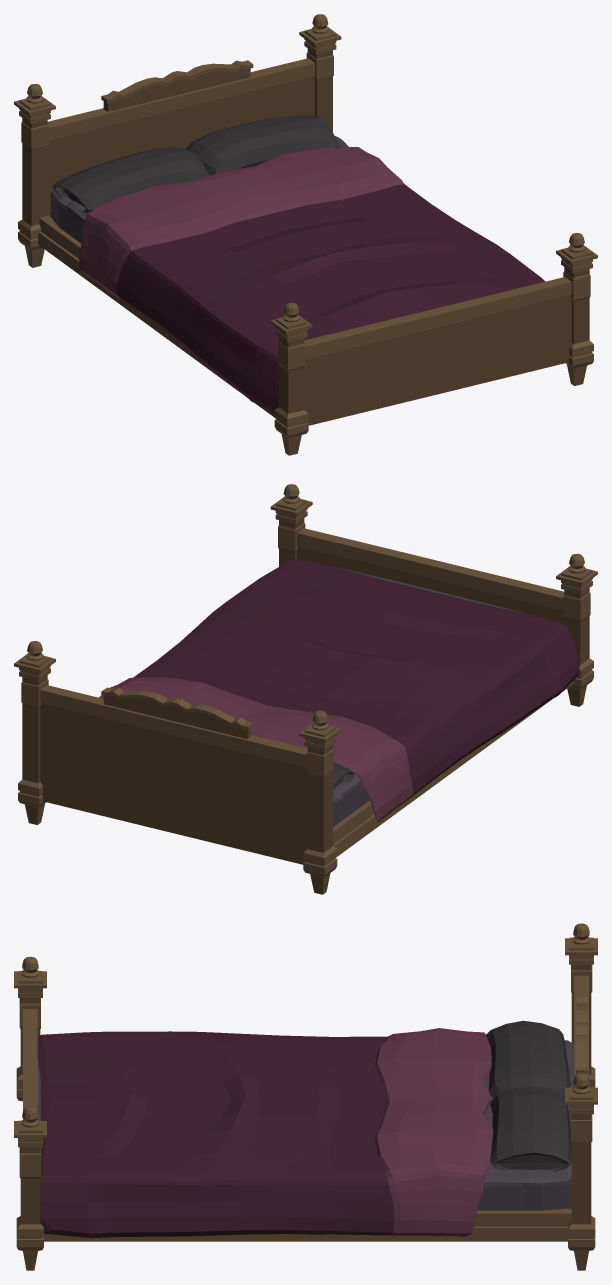
The model's file is F_BedDouble.glb.
The picture shows the model from 3 angles, top to bottom: view 1: azimuth 30°, elevation 25°; view 2: azimuth 150°, elevation 25°; view 3: azimuth 270°, elevation 25°; orthographic projection. The views are drawn at different scales.
Visible parts, largest first — view 1: Comforter_Cube.005, BedFrame_Cube.001, Pillow2_Cube.010, Pillow_Cube.008, Mattress_Cube.004; view 2: Comforter_Cube.005, BedFrame_Cube.001, Mattress_Cube.004; view 3: Comforter_Cube.005, BedFrame_Cube.001, Pillow2_Cube.010, Pillow_Cube.008, Mattress_Cube.004.
Part boxes in pixels (x1,y1,x2,y2): Comforter_Cube.005: [79, 147, 545, 413]; BedFrame_Cube.001: [14, 14, 597, 455]; Pillow2_Cube.010: [185, 115, 339, 175]; Pillow_Cube.008: [52, 146, 209, 212]; Mattress_Cube.004: [50, 136, 348, 243]; Comforter_Cube.005: [99, 559, 579, 822]; BedFrame_Cube.001: [14, 484, 597, 894]; Mattress_Cube.004: [333, 567, 528, 826]; Comforter_Cube.005: [37, 1028, 493, 1238]; BedFrame_Cube.001: [14, 923, 597, 1270]; Pillow2_Cube.010: [490, 1087, 571, 1171]; Pillow_Cube.008: [486, 1020, 570, 1097]; Mattress_Cube.004: [37, 1040, 574, 1210].
Bounding box in the file's own units: 2.83 × 1.56 × 4.26.
